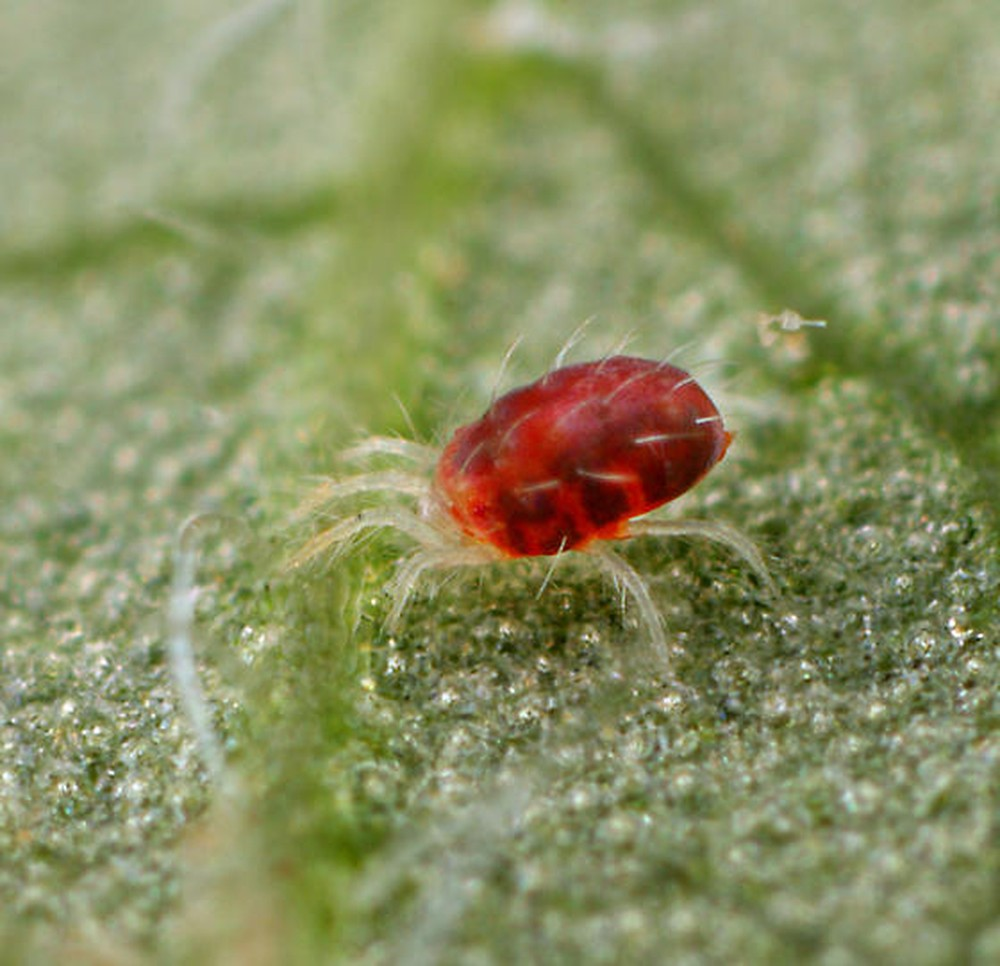Aracnido Rojo: (262, 287, 806, 694)
